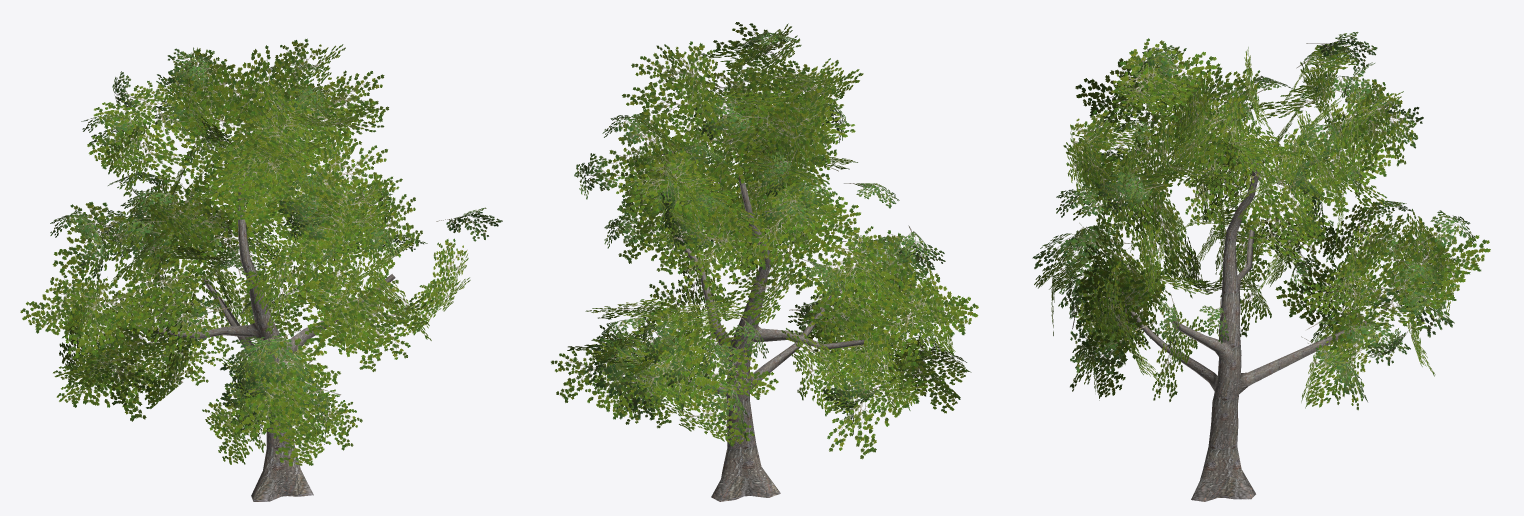
The model's file is oak.glb.
The picture shows the model from 3 angles, left to right: view 1: azimuth 30°, elevation 25°; view 2: azimuth 150°, elevation 25°; view 3: azimuth 270°, elevation 25°; orthographic projection. The views are drawn at different scales.
Parts seen in each view (by area): view 1: Broadleaf tree; view 2: Broadleaf tree; view 3: Broadleaf tree.
Boxes of the visible parts, x1,y1,x2,y2 form: Broadleaf tree: [20, 38, 502, 501]; Broadleaf tree: [551, 22, 978, 501]; Broadleaf tree: [1032, 32, 1490, 501].
Bounding box in the file's own units: 10.3 × 10 × 9.49.
2 materials, 2 textured.
